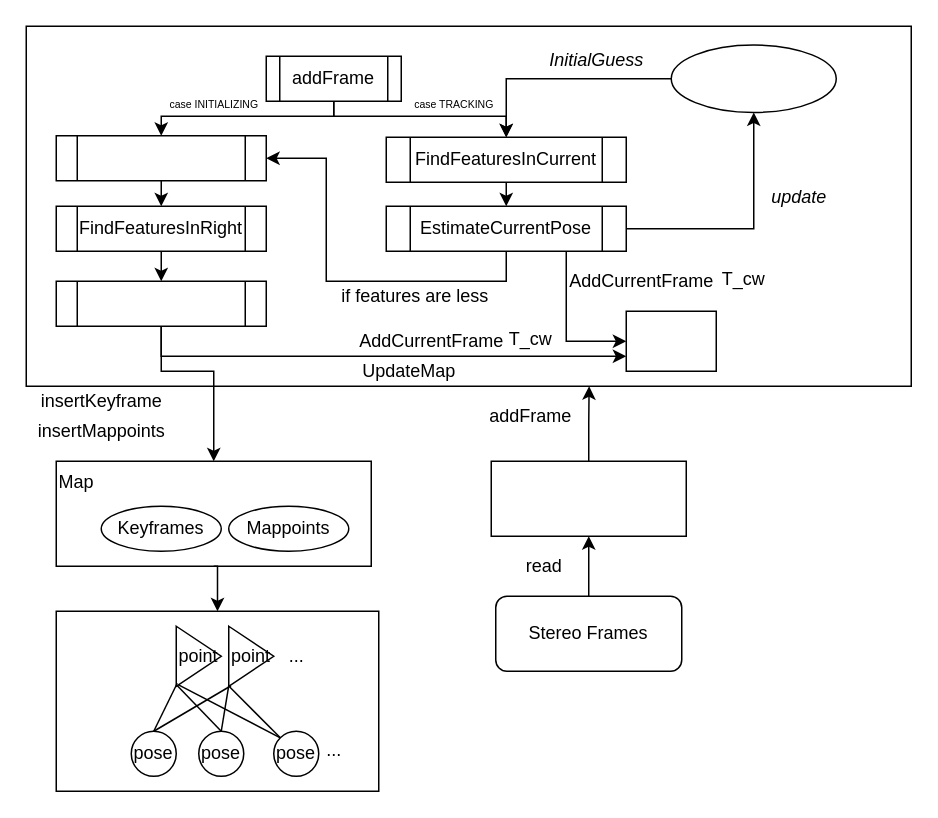
This 938x818 diagram has some shape labels left out. The shapes that lost their labels are listed below. From the top down, each one's box as (x1, y1, x2, y2) in pixels, then its label:
(670, 44, 836, 112): relative_motion_
(55, 134, 266, 181): DetectFeatures
(25, 25, 911, 386): Frontend
(55, 280, 266, 326): triangulation
(625, 310, 716, 371): Viewer
(490, 460, 686, 536): vo
(55, 610, 379, 791): Backend
